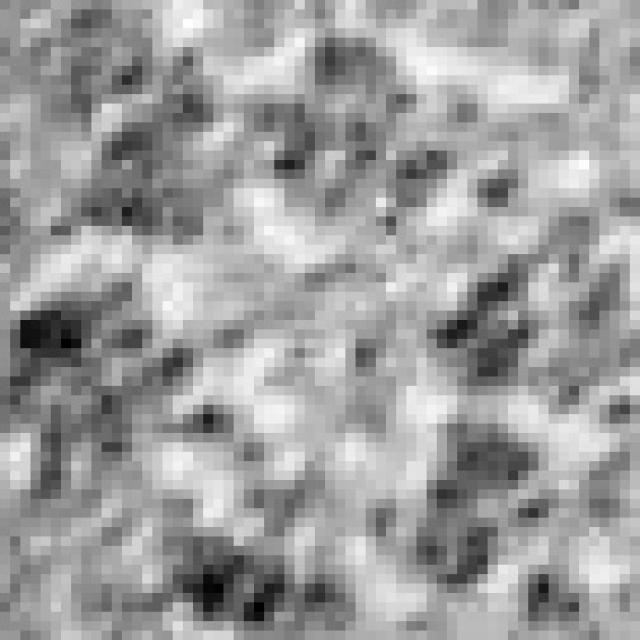inner: (188, 245, 426, 490)
lobe: (0, 278, 201, 498), (427, 210, 638, 401), (53, 45, 250, 238), (146, 478, 367, 634), (246, 25, 423, 219), (370, 421, 565, 593)
outer: (0, 5, 640, 632)
